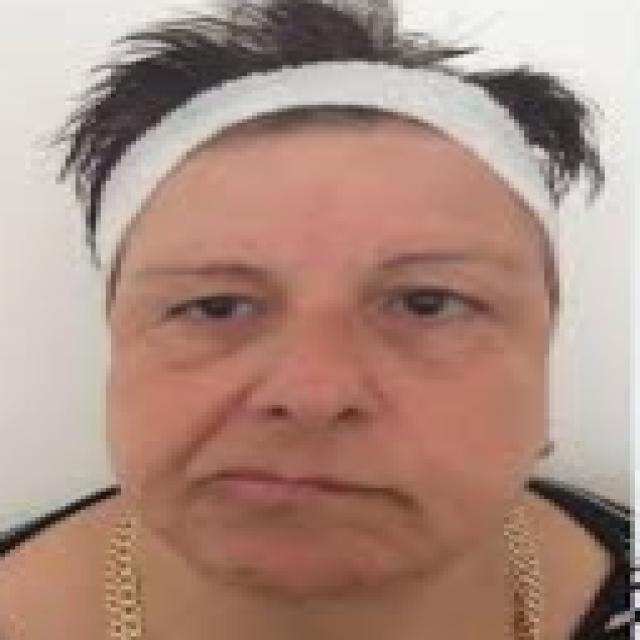stroke_face: (120, 37, 540, 595)
